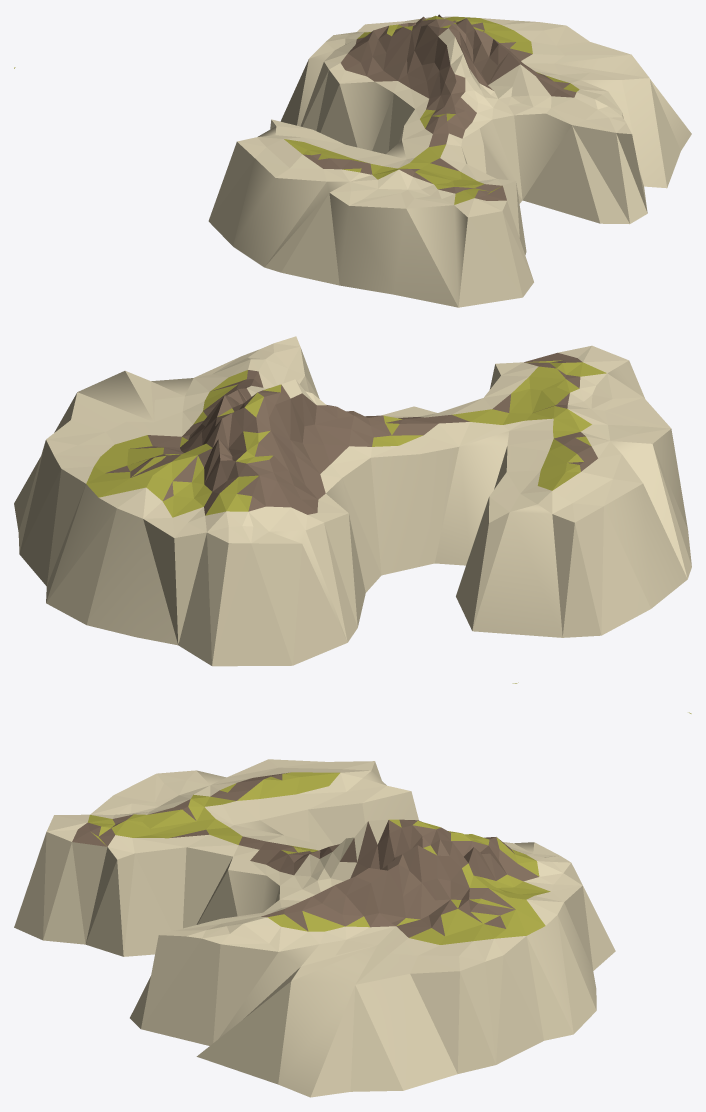
Rendered from rock04.fbx.
The picture shows the model from 3 angles, top to bottom: view 1: azimuth 30°, elevation 25°; view 2: azimuth 150°, elevation 25°; view 3: azimuth 270°, elevation 25°; orthographic projection. The views are drawn at different scales.
Parts seen in each view (by area): view 1: islet016; view 2: islet016; view 3: islet016.
Boxes of the visible parts, box(x1,y1,x2,y2) form: islet016: box(14, 14, 691, 307); islet016: box(14, 336, 691, 683); islet016: box(14, 712, 691, 1097).
Bounding box in the file's own units: 5.3 × 5.51 × 1.36.
